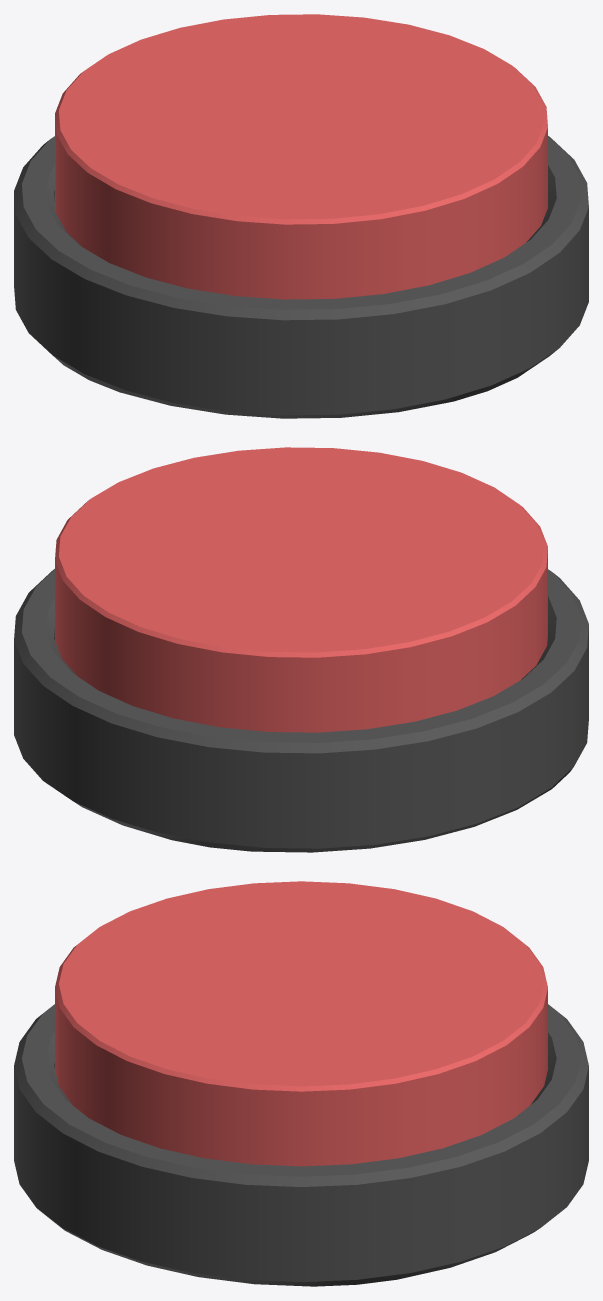
The model's file is button.fbx.
3 renders of one model, top to bottom at view 1: azimuth 30°, elevation 25°; view 2: azimuth 150°, elevation 25°; view 3: azimuth 270°, elevation 25°, orthographic.
Visible parts, largest first — view 1: Circle.001, Circle; view 2: Circle.001, Circle; view 3: Circle.001, Circle.
Boxes of the visible parts, x1=… form: Circle.001: x1=55, y1=14, x2=547, y2=299; Circle: x1=14, y1=136, x2=588, y2=418; Circle.001: x1=55, y1=447, x2=547, y2=732; Circle: x1=14, y1=569, x2=588, y2=852; Circle.001: x1=55, y1=881, x2=547, y2=1166; Circle: x1=14, y1=1004, x2=588, y2=1286.
Size of the model in its own units: 29.49 by 10.4 by 29.49.
